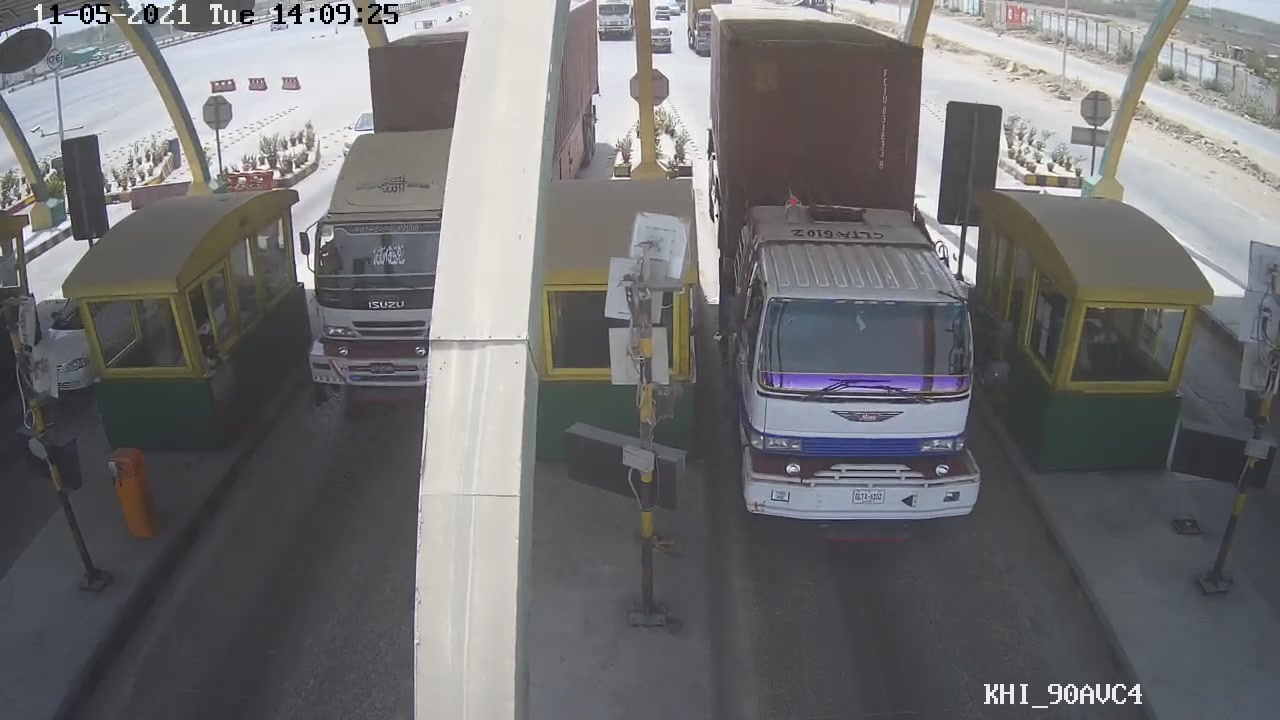F6: (701, 10, 1005, 522)
